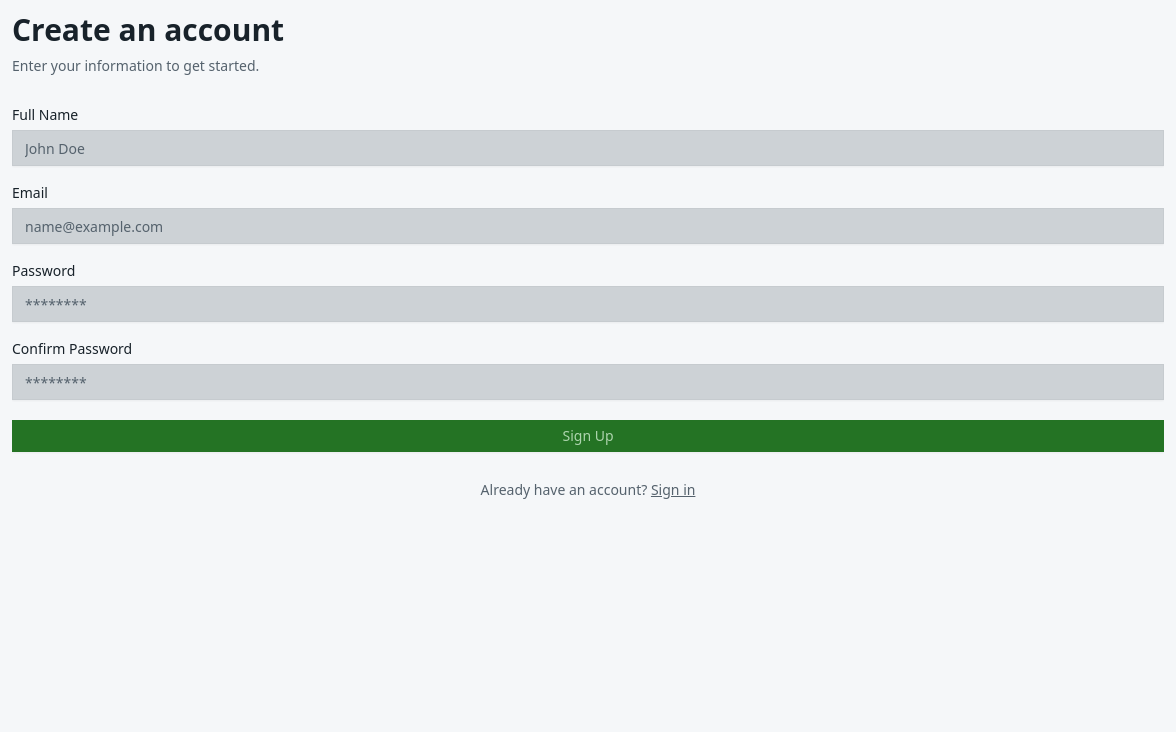
Scenario: RegisterPage › prevents submit when the password is missing an uppercase letter
Type "Weak Password User" into the field labelled "Full Name" at (588,148), box x1=12 y1=130 x2=1164 y2=166
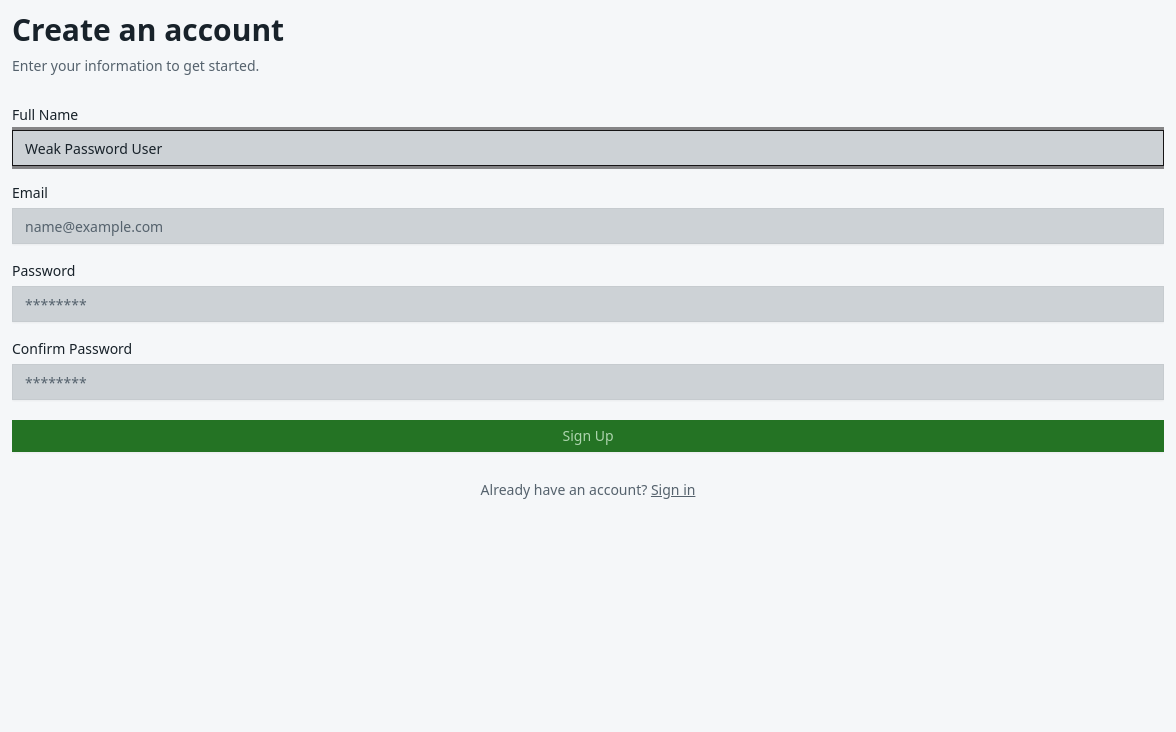
Type "register-weak@example.com" into the field labelled "Email" at (588,226), box x1=12 y1=208 x2=1164 y2=244
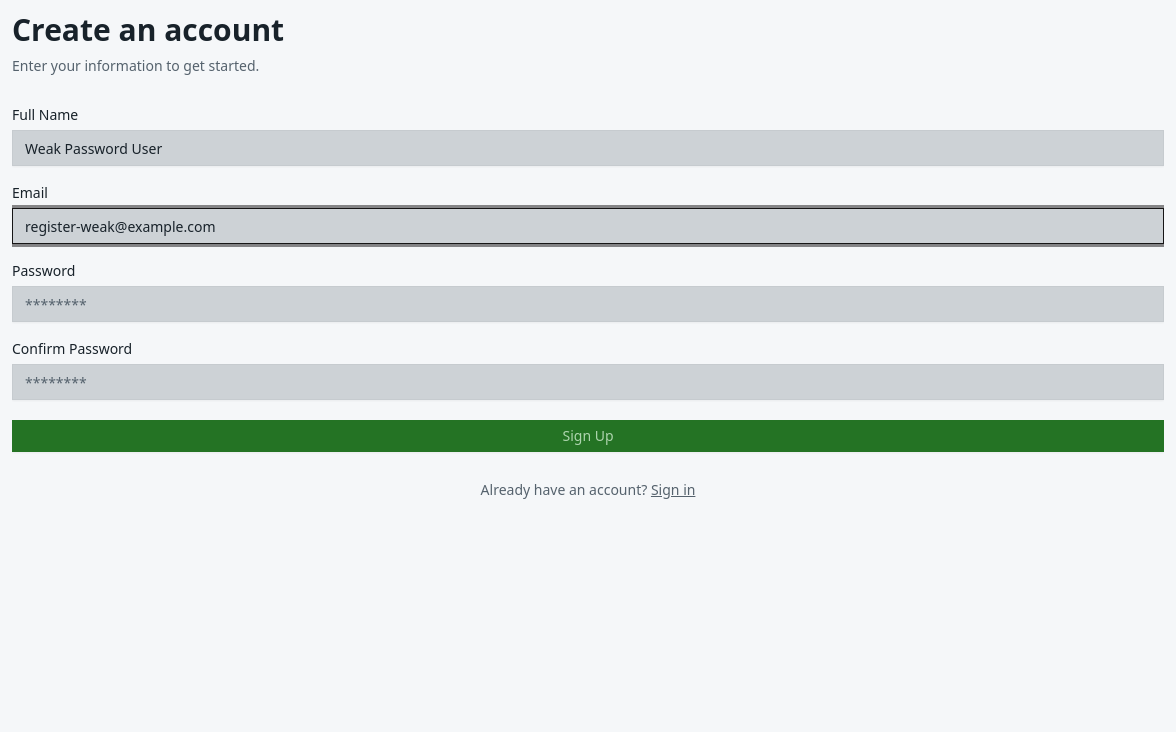
Type "lowercase123!" into the password field labelled "Password" at (588,304), box x1=12 y1=286 x2=1164 y2=322
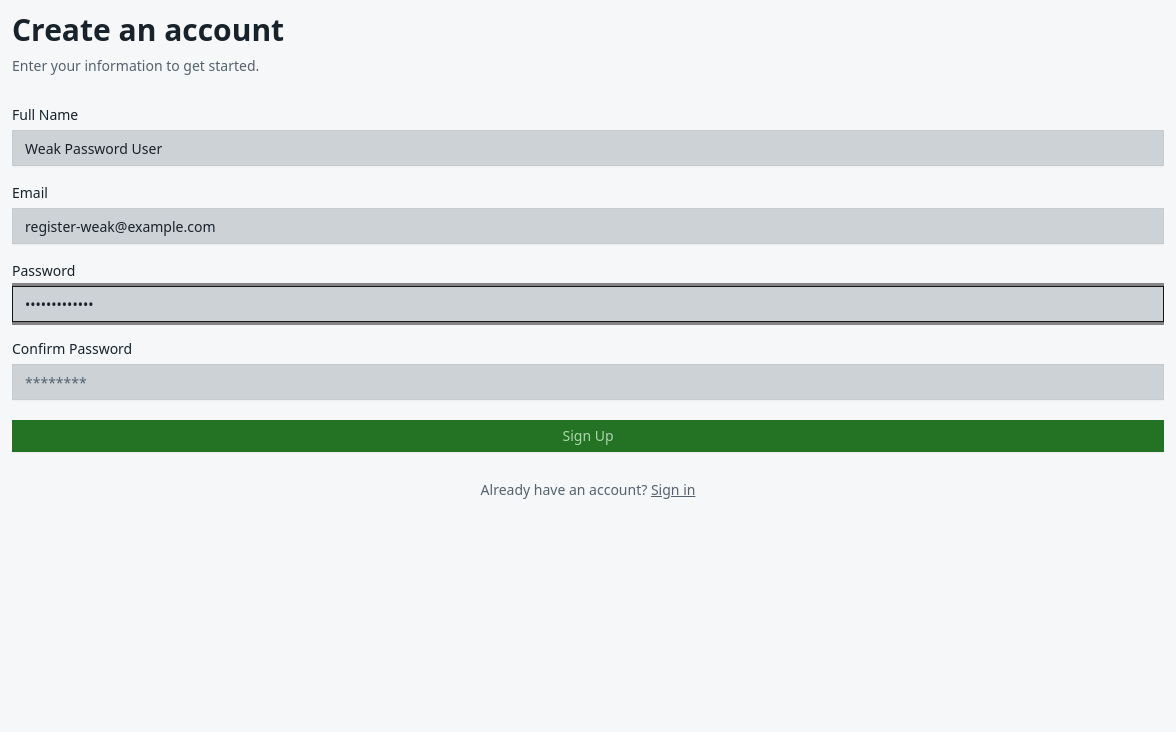
Type "lowercase123!" into the password field labelled "Confirm Password" at (588,382), box x1=12 y1=364 x2=1164 y2=400
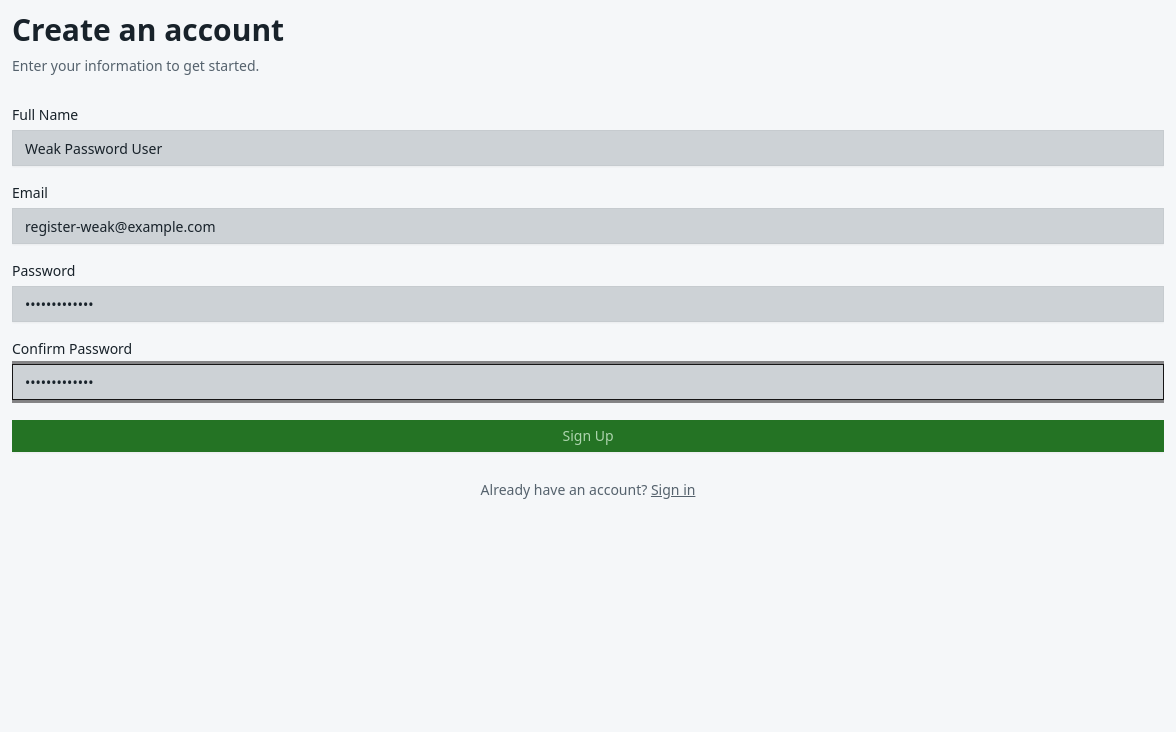
Click the button "Sign Up" at (588,436), box x1=12 y1=420 x2=1164 y2=452
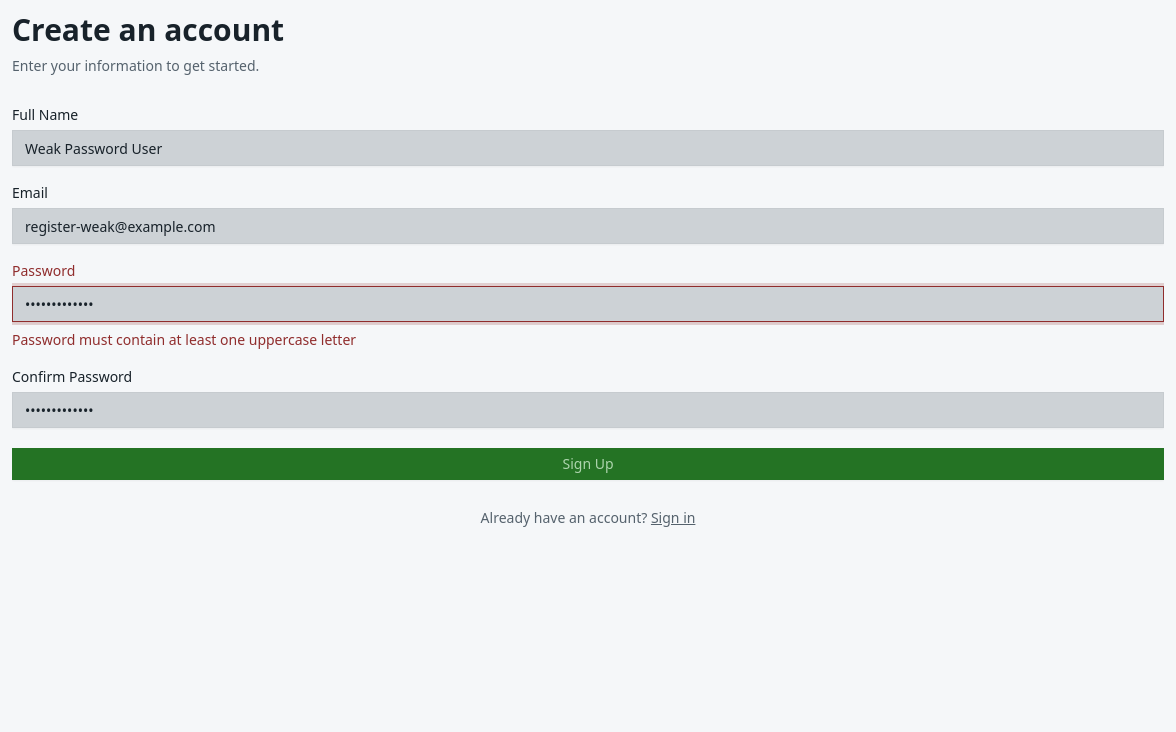
Result: the text "Password must contain at least one uppercase letter" is shown at x1=12 y1=330 x2=356 y2=349
